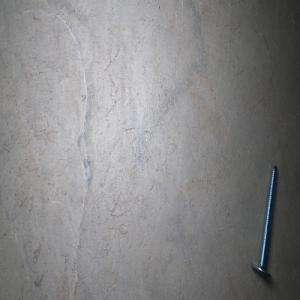Bolt: (250, 164, 278, 278)
